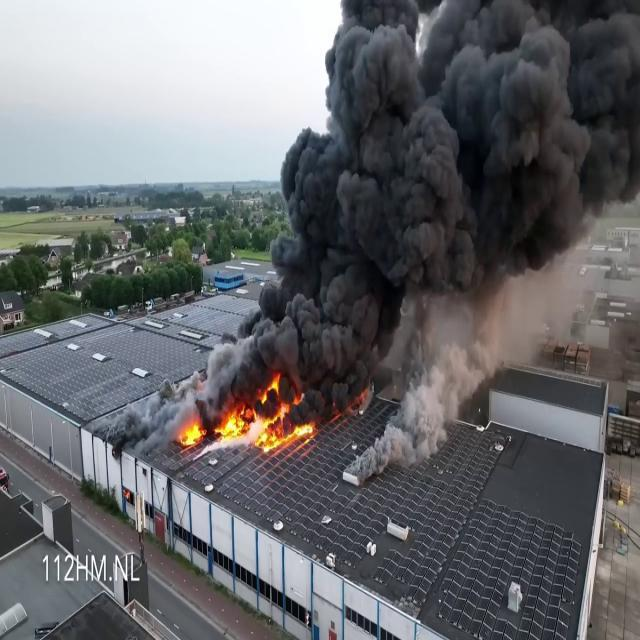Fire: (176, 375, 312, 453)
Smoke: (200, 1, 640, 377), (351, 280, 525, 484)
